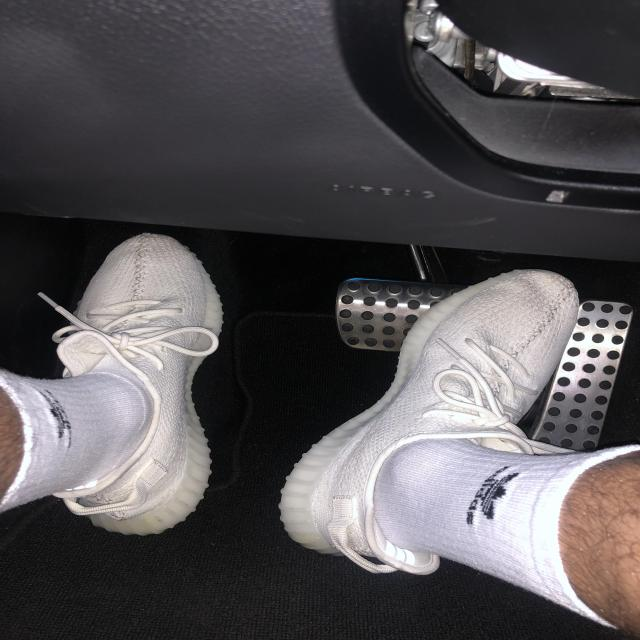shoe: (275, 263, 583, 579), (33, 229, 230, 538)
